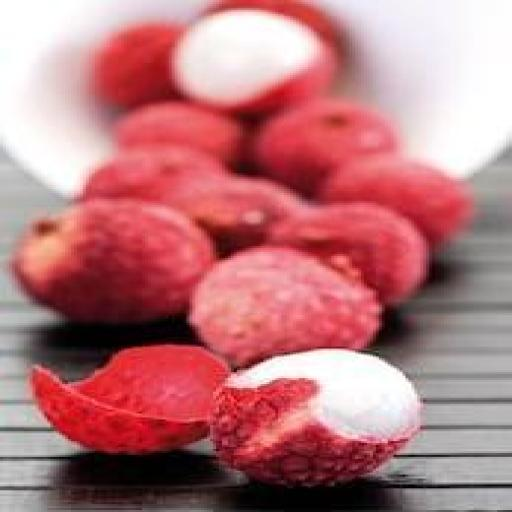lychee: (211, 349, 420, 486), (15, 199, 216, 322), (190, 247, 381, 366), (33, 345, 227, 454), (172, 10, 337, 114), (270, 203, 429, 305), (320, 156, 473, 248), (252, 99, 396, 194), (169, 178, 307, 254), (80, 144, 227, 204), (116, 101, 245, 163), (92, 22, 183, 108), (208, 0, 340, 43)
